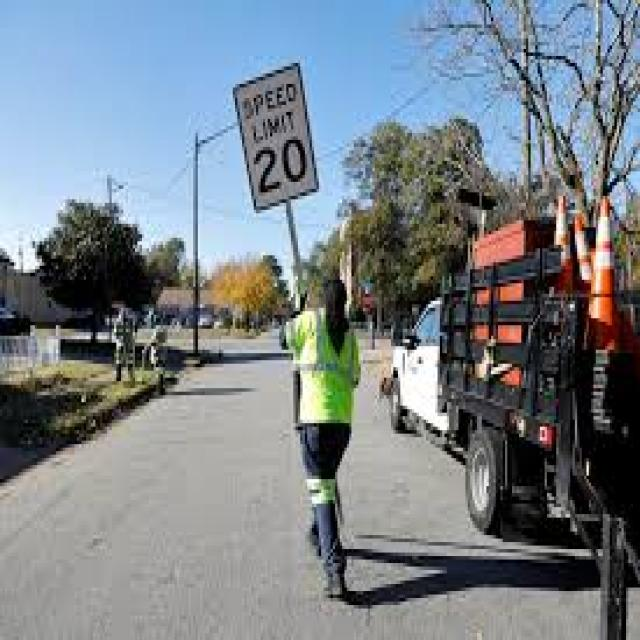speedLimit20: (233, 51, 319, 208)
